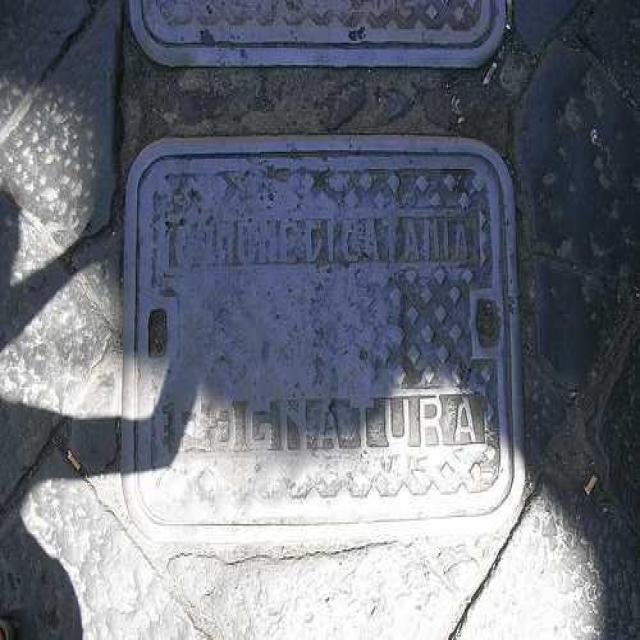manhole: (124, 138, 524, 557), (130, 0, 504, 68)
